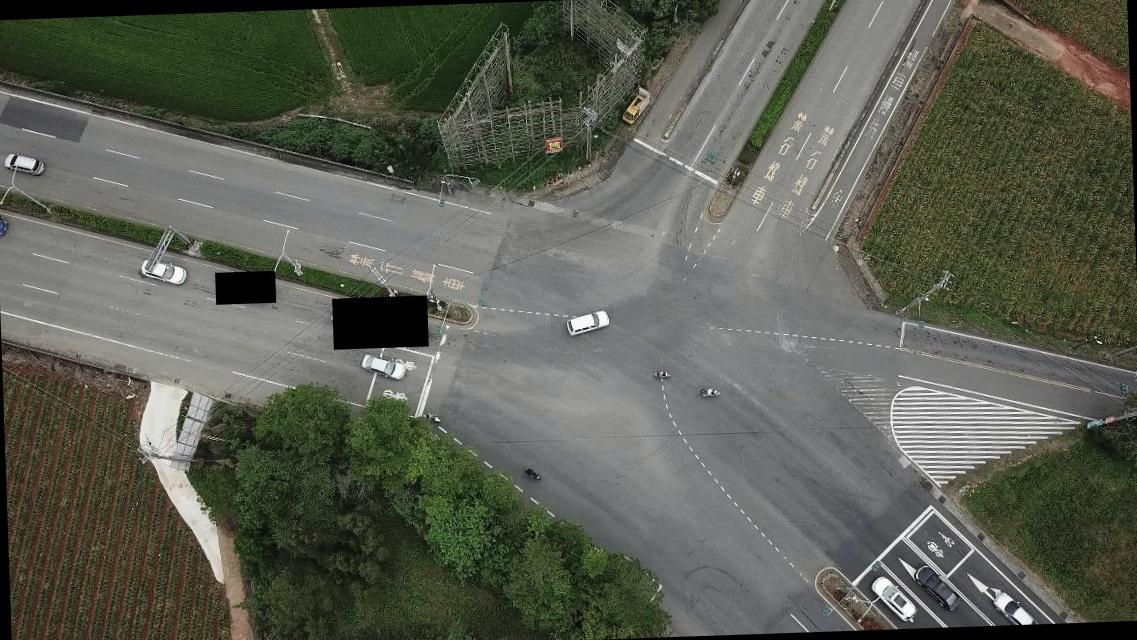vehicle: (912, 562, 960, 610), (869, 574, 915, 623), (992, 588, 1036, 625), (360, 352, 407, 380), (140, 258, 186, 286), (564, 310, 610, 338), (1, 152, 42, 176), (621, 95, 647, 124)
